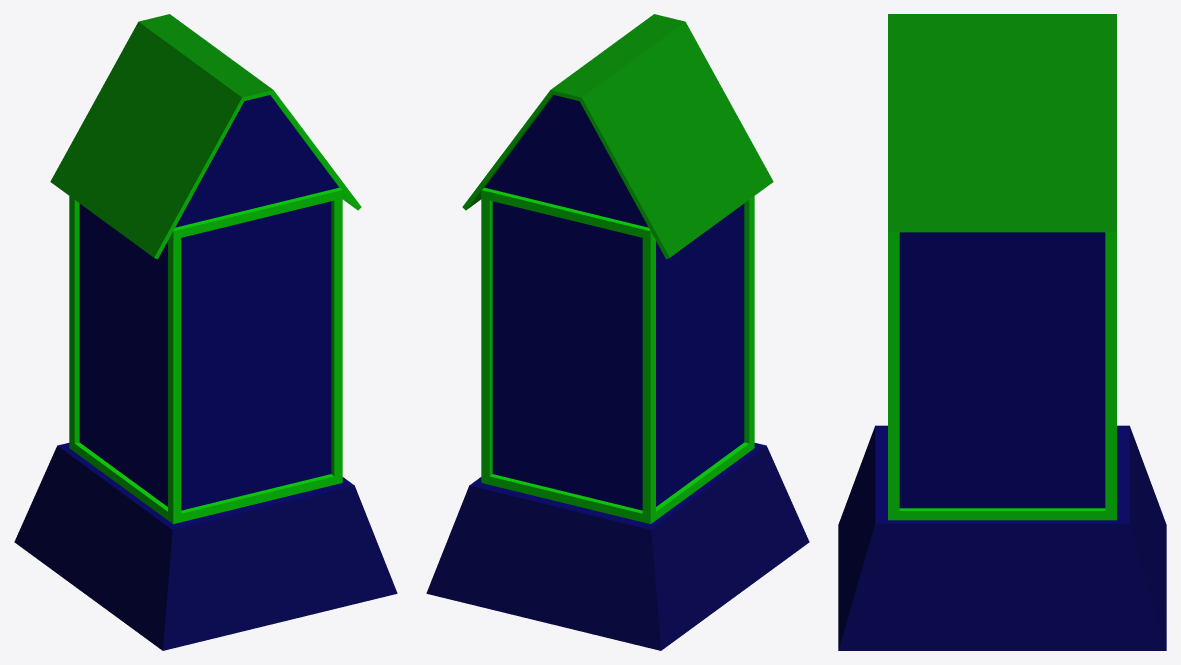
File: Windmill_02.fbx
The picture shows the model from 3 angles, left to right: view 1: azimuth 30°, elevation 25°; view 2: azimuth 150°, elevation 25°; view 3: azimuth 270°, elevation 25°; orthographic projection. The views are drawn at different scales.
Parts seen in each view (by area): view 1: Windmill_02; view 2: Windmill_02; view 3: Windmill_02.
Boxes of the visible parts, left/top/right/bottom form: Windmill_02: left=14, top=14, right=397, bottom=650; Windmill_02: left=426, top=14, right=809, bottom=650; Windmill_02: left=838, top=14, right=1166, bottom=650.
Size of the model in its own units: 144 by 300 by 158.
